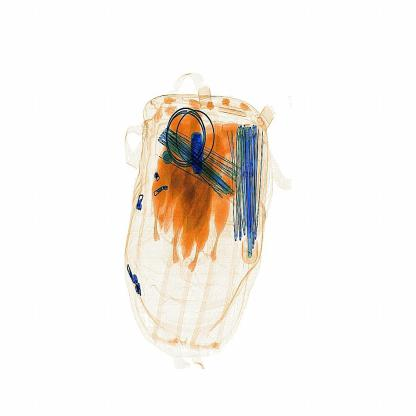scissors: (182, 127, 212, 180)
